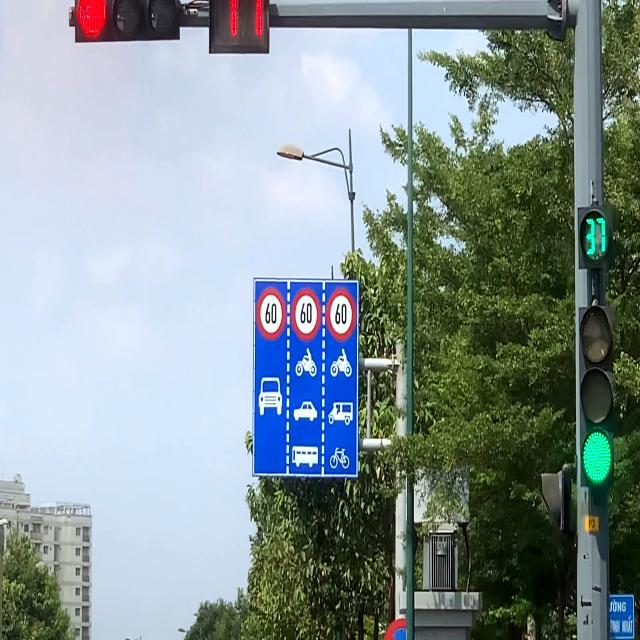P-127c: (252, 280, 358, 474)
